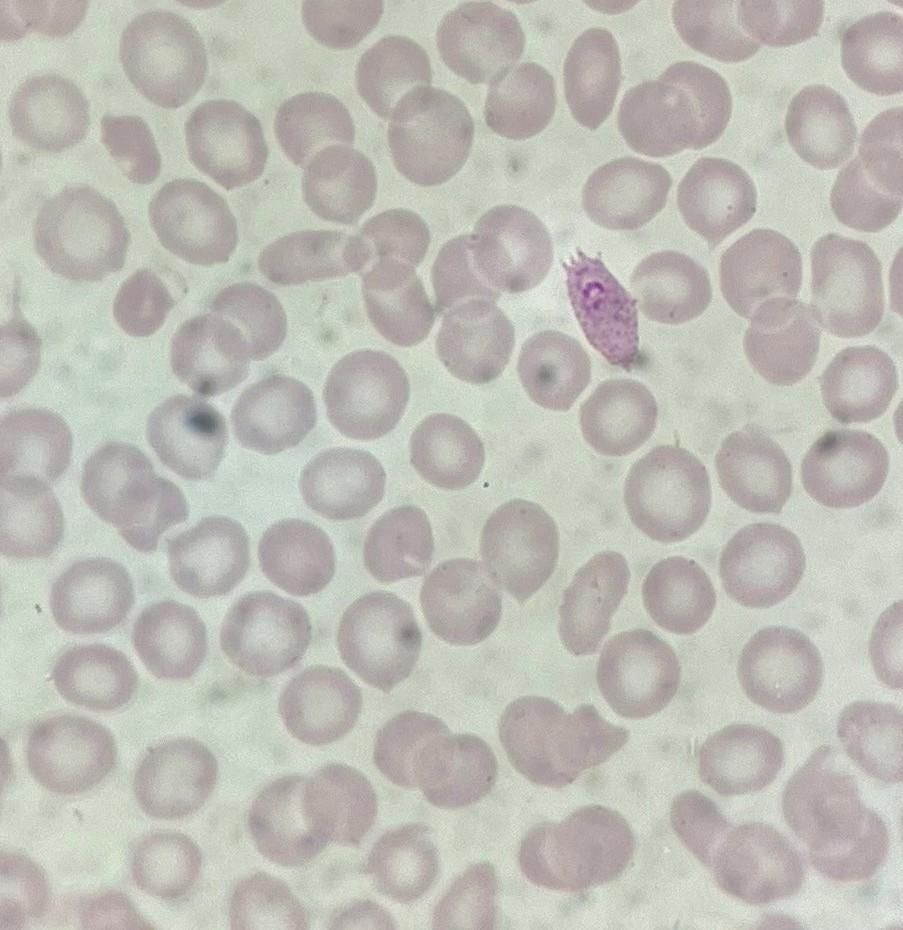Infected: (558, 245, 640, 370)
Uninfected: (779, 750, 886, 877), (496, 693, 626, 787), (374, 709, 496, 807), (79, 442, 187, 552), (516, 802, 635, 895), (617, 69, 723, 157), (32, 185, 128, 280), (624, 443, 713, 540), (702, 819, 803, 901), (119, 13, 208, 106), (478, 499, 559, 601), (806, 234, 885, 338), (148, 177, 239, 266), (334, 594, 422, 686), (717, 227, 804, 320), (218, 592, 311, 679), (321, 351, 411, 440), (289, 760, 378, 848), (386, 90, 471, 182), (144, 392, 232, 480), (248, 776, 334, 864), (417, 557, 503, 644), (556, 553, 630, 654), (358, 253, 438, 346), (183, 99, 268, 186), (470, 203, 555, 290), (25, 713, 116, 794), (735, 625, 820, 711), (595, 629, 679, 716), (717, 522, 803, 605), (228, 375, 317, 455), (436, 4, 525, 84), (132, 737, 217, 820), (798, 430, 886, 510), (165, 515, 250, 597), (741, 296, 820, 384), (712, 431, 794, 515), (353, 35, 434, 119), (258, 228, 369, 289), (516, 327, 595, 412), (576, 379, 660, 458), (272, 90, 359, 166), (205, 281, 286, 362), (674, 159, 754, 241), (277, 663, 360, 742), (9, 73, 91, 152), (49, 556, 132, 634), (168, 317, 252, 394), (299, 143, 380, 222), (581, 158, 667, 232), (299, 445, 386, 518), (48, 641, 135, 714), (361, 505, 439, 586), (257, 517, 338, 595), (561, 27, 623, 128), (131, 601, 208, 681), (440, 299, 516, 380), (783, 83, 857, 166), (828, 150, 898, 237), (627, 250, 709, 324), (817, 345, 894, 422), (640, 555, 716, 633), (698, 724, 781, 795), (481, 61, 555, 140), (407, 412, 483, 488), (429, 235, 505, 311), (0, 407, 73, 485), (1, 476, 66, 560), (674, 1, 763, 61), (366, 827, 439, 899), (130, 831, 203, 899), (839, 11, 901, 91), (836, 700, 898, 779), (672, 790, 740, 861), (357, 208, 431, 273), (100, 113, 164, 184), (111, 268, 175, 337), (228, 873, 308, 928), (432, 863, 499, 926), (149, 261, 190, 302)
